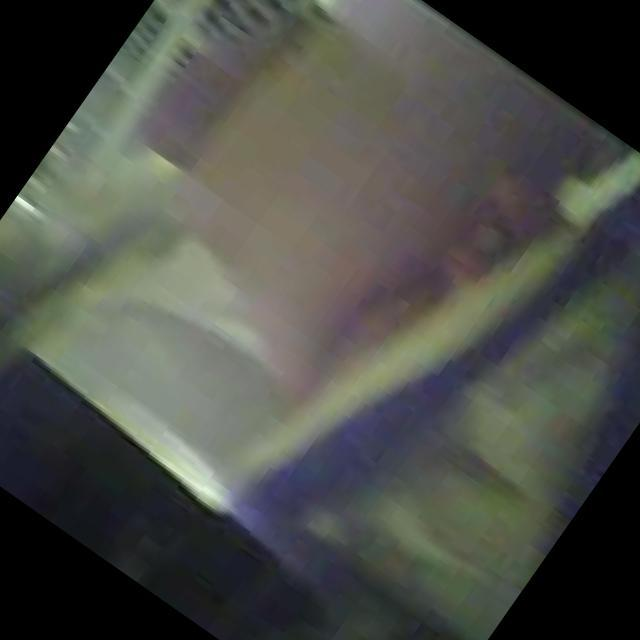person: (0, 0, 615, 640), (141, 63, 640, 640)
